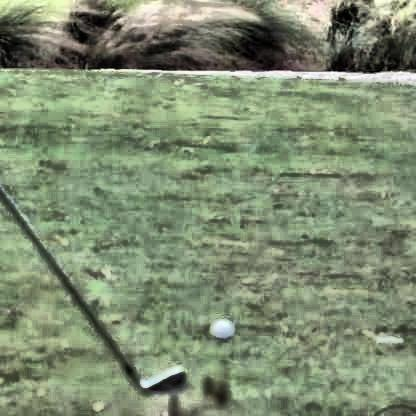golfball: (206, 315, 231, 339)
